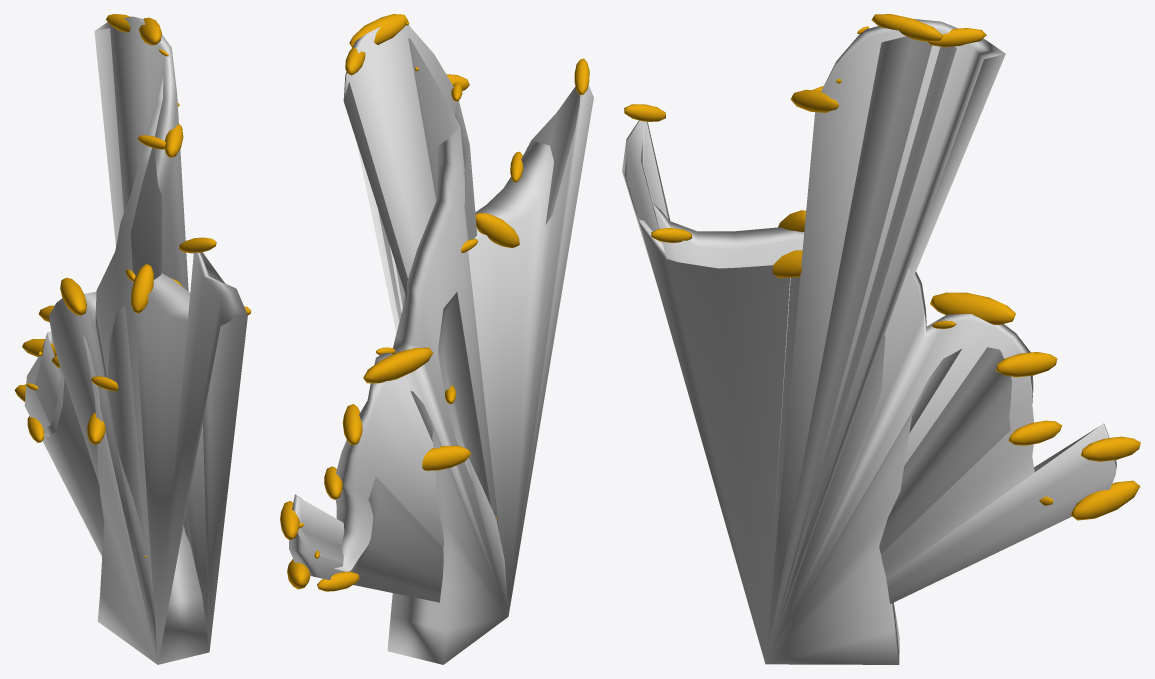
The model's file is treekullumu.fbx.
3 renders of one model, left to right at view 1: azimuth 30°, elevation 25°; view 2: azimuth 150°, elevation 25°; view 3: azimuth 270°, elevation 25°, orthographic. The views are drawn at different scales.
Parts seen in each view (by area): view 1: Plane.003, Plane.003|Icosphere.001|Dupli|23, Plane.003|Icosphere.001|Dupli|22, Plane.003|Icosphere.001|Dupli|18, Plane.003|Icosphere.001|Dupli|7, Plane.003|Icosphere.001|Dupli|5, Plane.003|Icosphere.001|Dupli|1; view 2: Plane.003, Plane.003|Icosphere.001|Dupli|22, Plane.003|Icosphere.001|Dupli|23, Plane.003|Icosphere.001|Dupli|1, Plane.003|Icosphere.001|Dupli|18, Plane.003|Icosphere.001|Dupli|11, Plane.003|Icosphere.001|Dupli|24, Plane.003|Icosphere.001|Dupli|17, Plane.003|Icosphere.001|Dupli|13, Plane.003|Icosphere.001|Dupli|; view 3: Plane.003, Plane.003|Icosphere.001|Dupli|22, Plane.003|Icosphere.001|Dupli|13, Plane.003|Icosphere.001|Dupli|11, Plane.003|Icosphere.001|Dupli|18, Plane.003|Icosphere.001|Dupli|17, Plane.003|Icosphere.001|Dupli|, Plane.003|Icosphere.001|Dupli|5.
Boxes of the visible parts, left/top/right/bottom form: Plane.003: left=24, top=16, right=247, bottom=664; Plane.003|Icosphere.001|Dupli|23: left=131, top=264, right=153, bottom=313; Plane.003|Icosphere.001|Dupli|22: left=60, top=277, right=86, bottom=315; Plane.003|Icosphere.001|Dupli|18: left=139, top=17, right=161, bottom=45; Plane.003|Icosphere.001|Dupli|7: left=179, top=237, right=216, bottom=253; Plane.003|Icosphere.001|Dupli|5: left=165, top=124, right=183, bottom=157; Plane.003|Icosphere.001|Dupli|1: left=87, top=412, right=105, bottom=444; Plane.003: left=289, top=25, right=593, bottom=664; Plane.003|Icosphere.001|Dupli|22: left=363, top=347, right=432, bottom=383; Plane.003|Icosphere.001|Dupli|23: left=475, top=212, right=519, bottom=247; Plane.003|Icosphere.001|Dupli|1: left=422, top=445, right=471, bottom=470; Plane.003|Icosphere.001|Dupli|18: left=349, top=14, right=407, bottom=47; Plane.003|Icosphere.001|Dupli|11: left=342, top=404, right=362, bottom=445; Plane.003|Icosphere.001|Dupli|24: left=317, top=571, right=359, bottom=591; Plane.003|Icosphere.001|Dupli|17: left=280, top=501, right=299, bottom=540; Plane.003|Icosphere.001|Dupli|13: left=287, top=559, right=310, bottom=589; Plane.003|Icosphere.001|Dupli|: left=324, top=466, right=342, bottom=499; Plane.003: left=622, top=19, right=1116, bottom=664; Plane.003|Icosphere.001|Dupli|22: left=930, top=292, right=1015, bottom=324; Plane.003|Icosphere.001|Dupli|13: left=1070, top=480, right=1140, bottom=520; Plane.003|Icosphere.001|Dupli|11: left=996, top=352, right=1057, bottom=377; Plane.003|Icosphere.001|Dupli|18: left=871, top=14, right=943, bottom=41; Plane.003|Icosphere.001|Dupli|17: left=1081, top=436, right=1140, bottom=461; Plane.003|Icosphere.001|Dupli|: left=1008, top=420, right=1062, bottom=445; Plane.003|Icosphere.001|Dupli|5: left=790, top=89, right=838, bottom=112.
Bounding box in the file's own units: 50.27 × 300 × 217.
